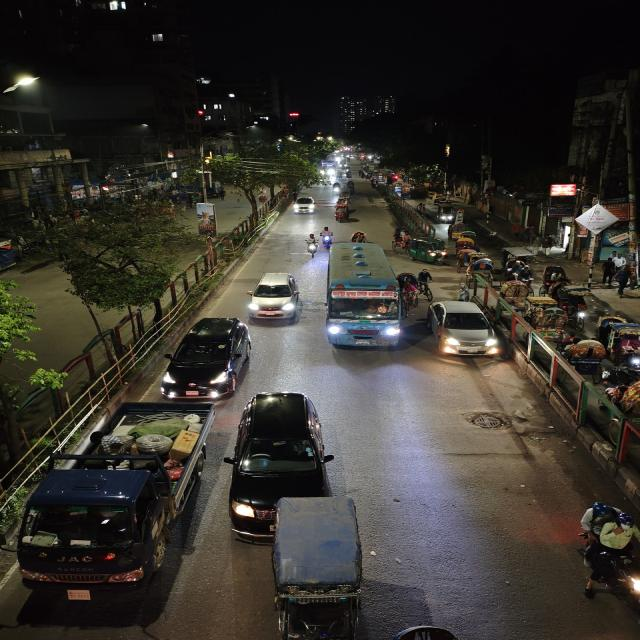bicycle: (418, 268, 438, 304)
bus: (322, 239, 408, 353)
car: (226, 387, 336, 535), (159, 314, 255, 400), (426, 299, 500, 361), (246, 270, 302, 322), (292, 195, 317, 216)
cng: (407, 237, 448, 266)
motorcycle: (572, 497, 640, 638), (302, 232, 320, 258), (319, 224, 335, 248)
pedestrian: (615, 264, 634, 297), (600, 258, 615, 286)
pickup_van: (5, 402, 216, 596)
rickshaw: (598, 315, 640, 373), (518, 296, 571, 339), (540, 263, 575, 297), (497, 278, 533, 308), (459, 253, 496, 273), (331, 197, 352, 222), (452, 237, 481, 255)
